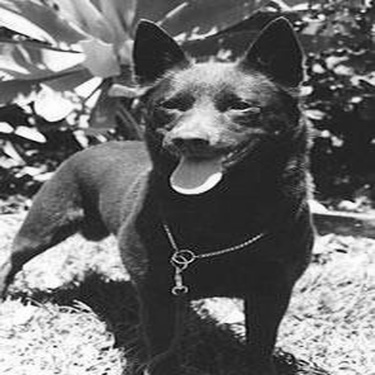dog: (1, 8, 316, 373)
